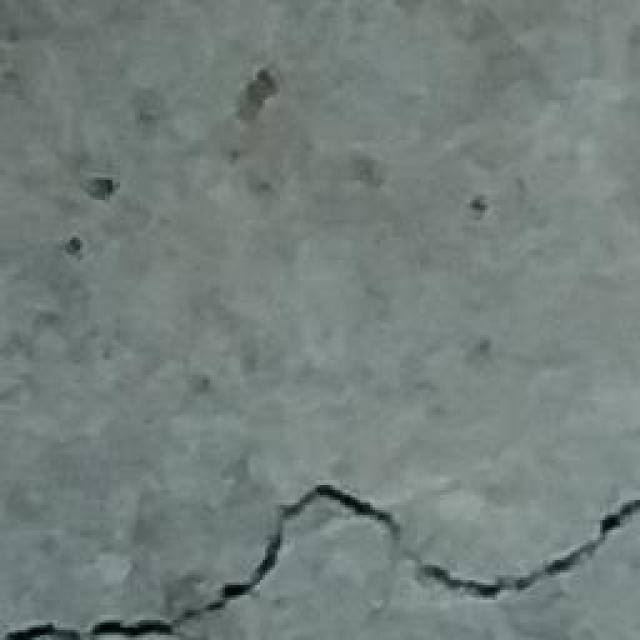Transverse: (2, 458, 640, 640)
